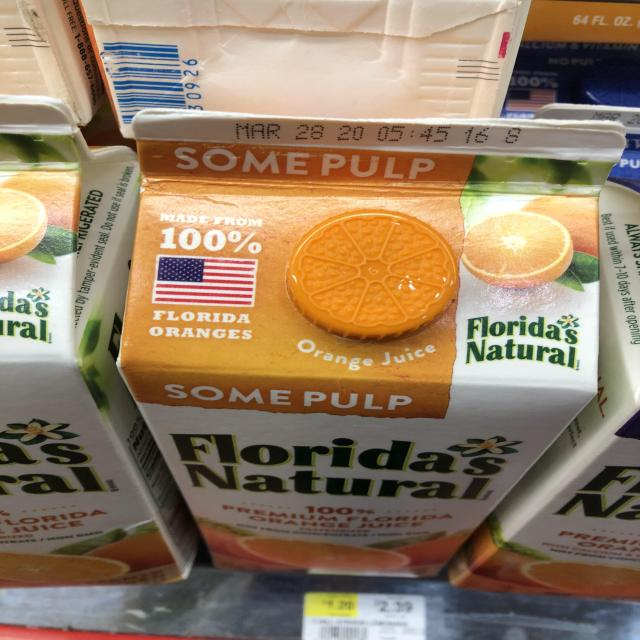drink carton: (112, 105, 628, 587), (0, 94, 206, 590), (447, 100, 640, 594)
plastic bottle cap: (284, 206, 460, 346)
